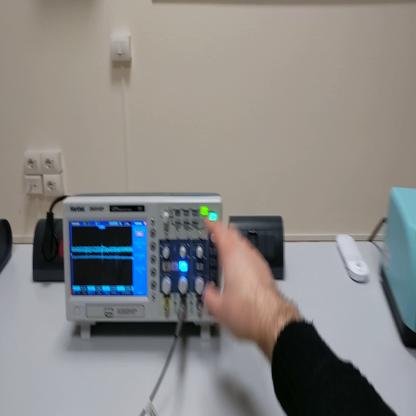hand: (202, 214, 275, 342)
oscilloscope: (64, 195, 226, 346)
socket: (34, 219, 65, 285), (2, 217, 14, 275)
welder station: (383, 186, 416, 351)
